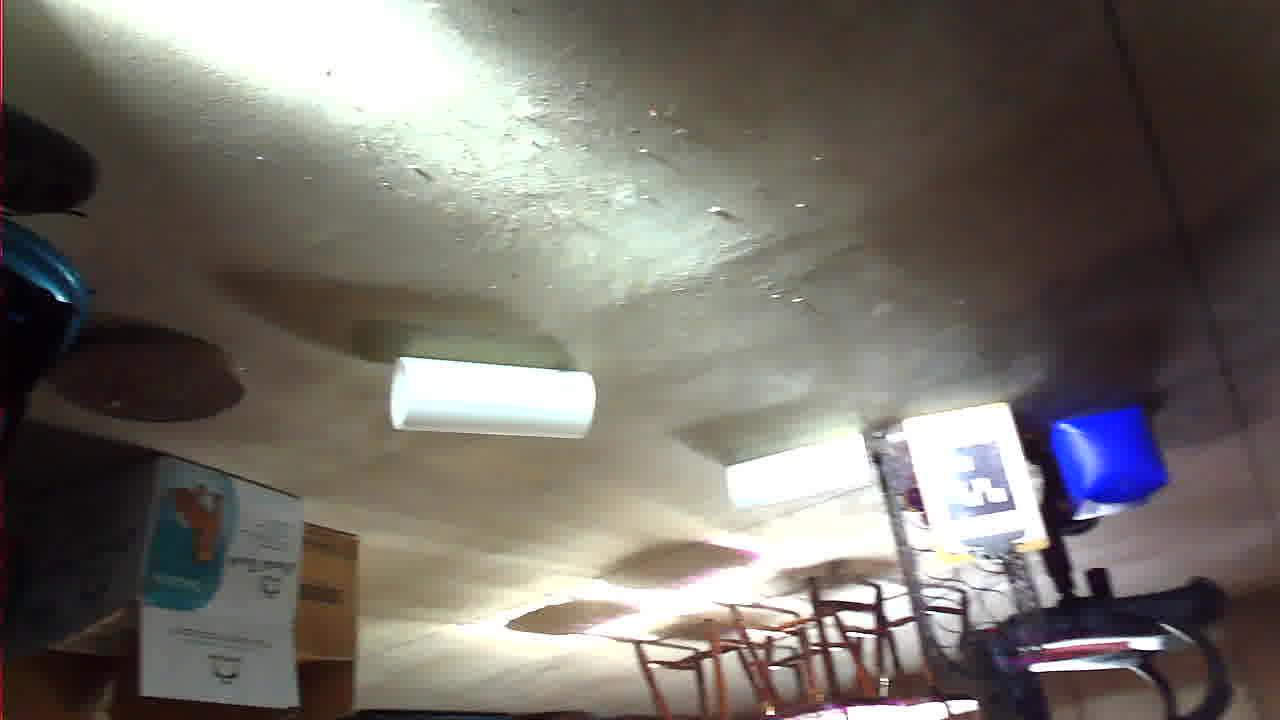coral: (683, 280, 891, 364)
